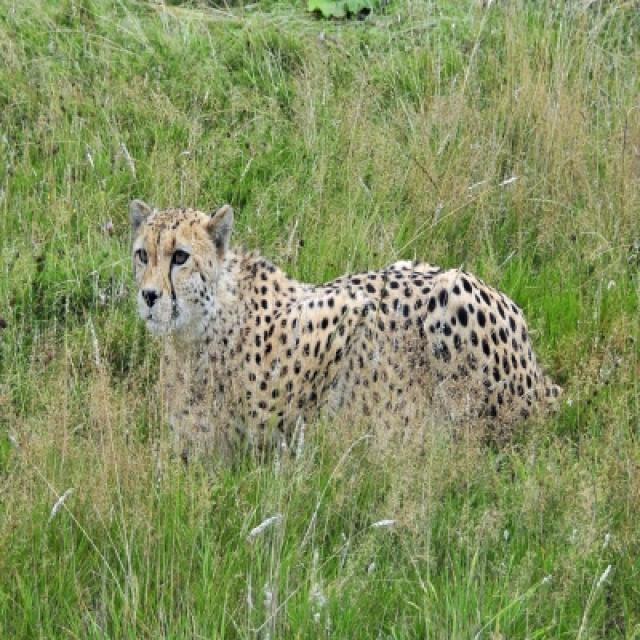Cheetah: (122, 194, 595, 448)
